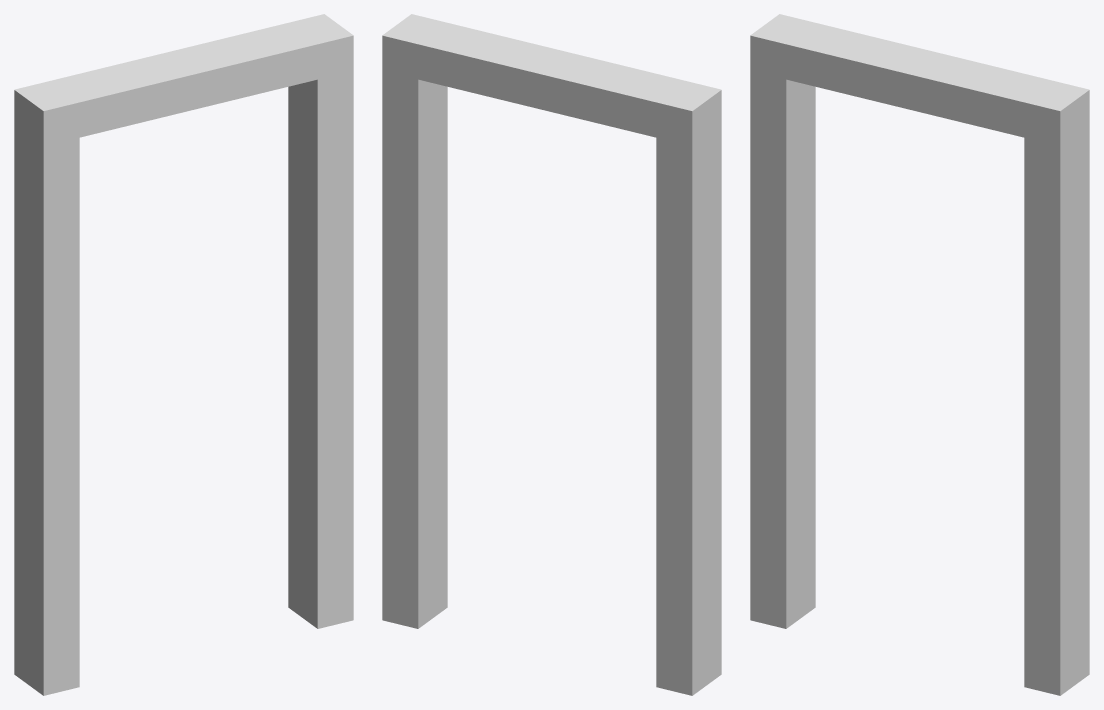
Rendered from door_frame_001.obj.
3 views of the same model, side by side, from view 1: azimuth 30°, elevation 25°; view 2: azimuth 150°, elevation 25°; view 3: azimuth 330°, elevation 25° (orthographic).
Visible parts, largest first — view 1: door_frame_001; view 2: door_frame_001; view 3: door_frame_001.
Part boxes in pixels (x1,y1,x2,y2): door_frame_001: (14,14,353,695); door_frame_001: (382,14,721,695); door_frame_001: (750,14,1089,695).
Size of the model in its own units: 1.34 by 2.41 by 0.2204.
